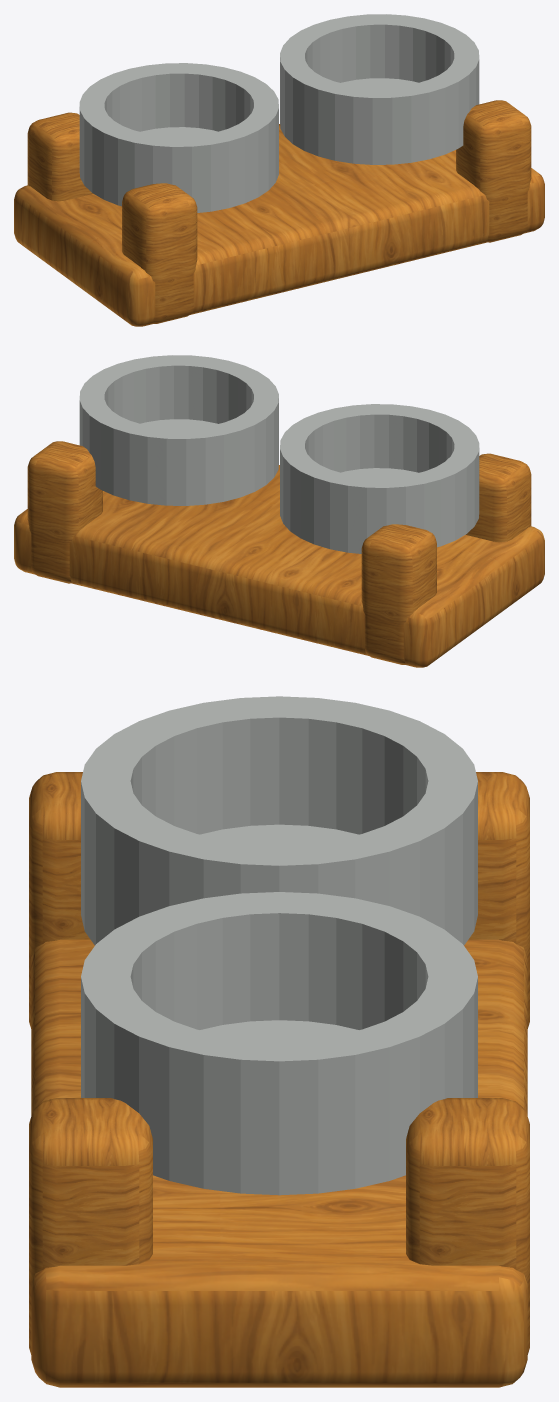
The model's file is pet-feeding-station.glb.
3 views of the same model, one above another, from view 1: azimuth 30°, elevation 25°; view 2: azimuth 150°, elevation 25°; view 3: azimuth 270°, elevation 25° (orthographic). The views are drawn at different scales.
Visible parts, largest first — view 1: pet-feeding-station; view 2: pet-feeding-station; view 3: pet-feeding-station.
Part boxes in pixels (<box>): pet-feeding-station: <box>14,14,544,326</box>; pet-feeding-station: <box>14,355,544,667</box>; pet-feeding-station: <box>29,696,529,1387</box>.
Size of the model in its own units: 0.5 by 0.18 by 0.26.
2 materials, 1 textured.
